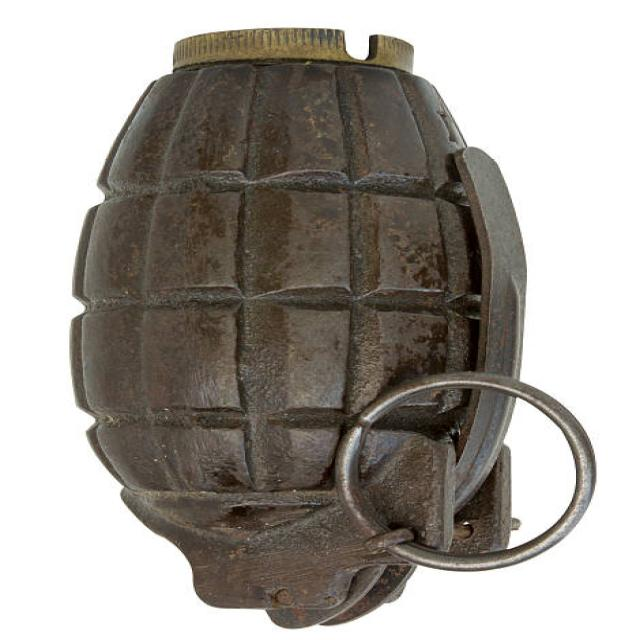grenade: (46, 12, 608, 636)
